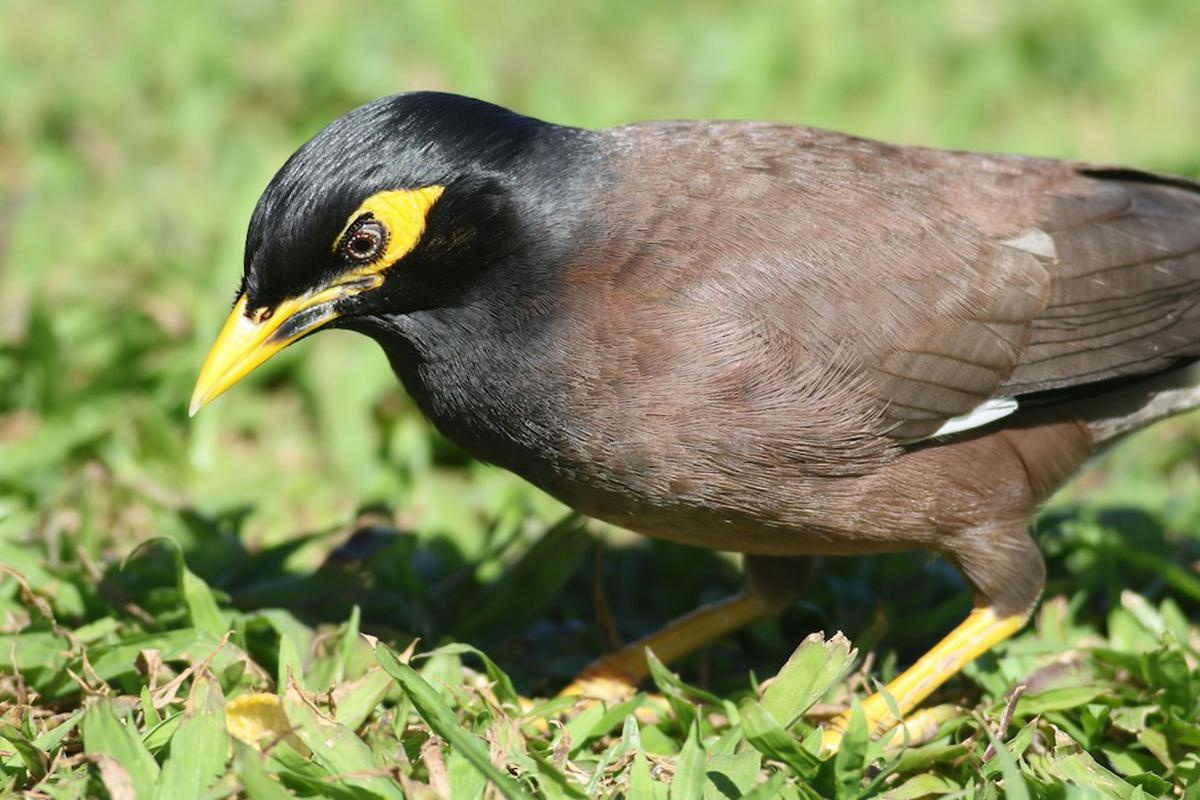myna: (158, 65, 1138, 688)
